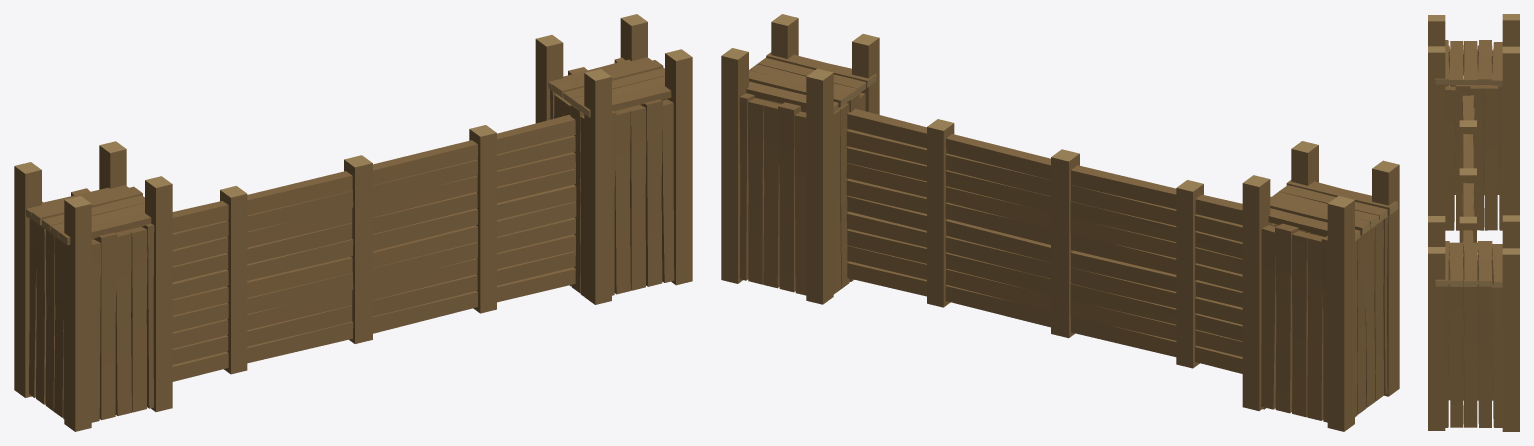
Rendered from quaternius-real-time-strategy-wall-towers-first-age.glb.
3 renders of one model, left to right at view 1: azimuth 30°, elevation 25°; view 2: azimuth 150°, elevation 25°; view 3: azimuth 270°, elevation 25°, orthographic. The views are drawn at different scales.
Parts seen in each view (by area): view 1: WallTowers_FirstAge; view 2: WallTowers_FirstAge; view 3: WallTowers_FirstAge.
Part boxes in pixels (left/top/right/bottom): WallTowers_FirstAge: left=14, top=14, right=692, bottom=431; WallTowers_FirstAge: left=721, top=14, right=1399, bottom=431; WallTowers_FirstAge: left=1428, top=14, right=1519, bottom=431.
Size of the model in its own units: 1.94 by 0.6724 by 0.3134.
